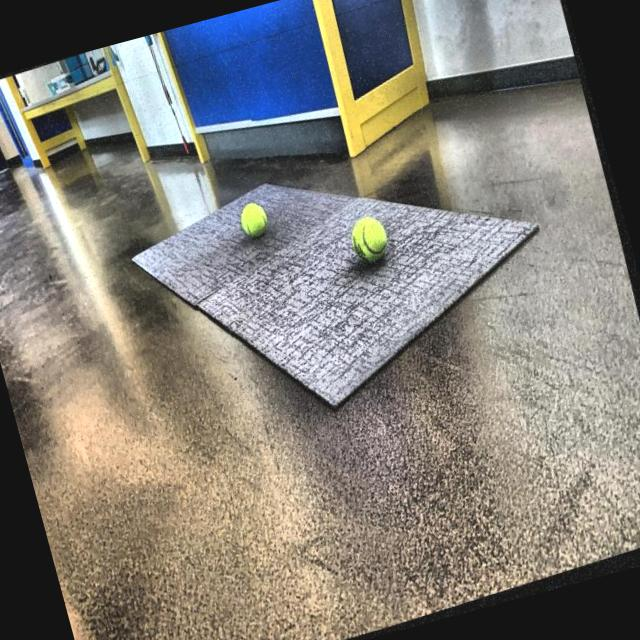tennis-ball: (346, 212, 398, 270), (235, 196, 278, 247)
